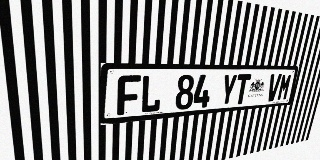4: (192, 74, 213, 108)
8: (175, 75, 196, 110)
F: (117, 75, 141, 115)
L: (140, 75, 163, 113)
M: (277, 74, 293, 101)
T: (233, 74, 251, 105)
V: (265, 74, 282, 102)
Y: (219, 74, 238, 106)
